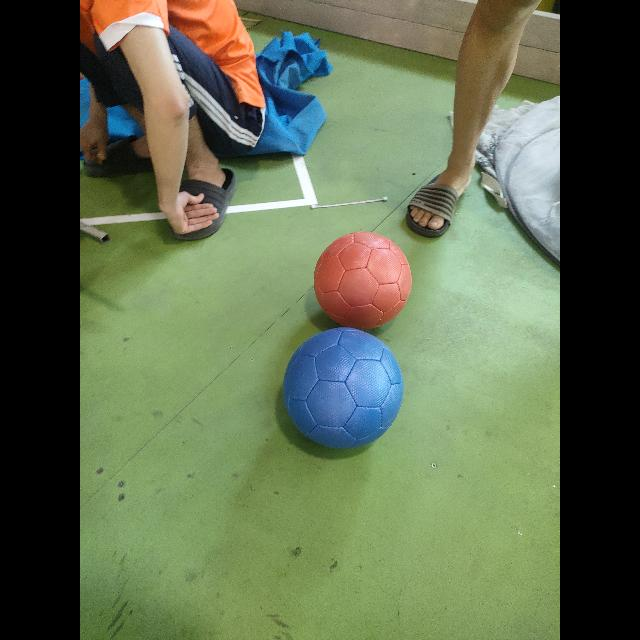B: (284, 326, 404, 452)
R: (313, 230, 412, 330)
